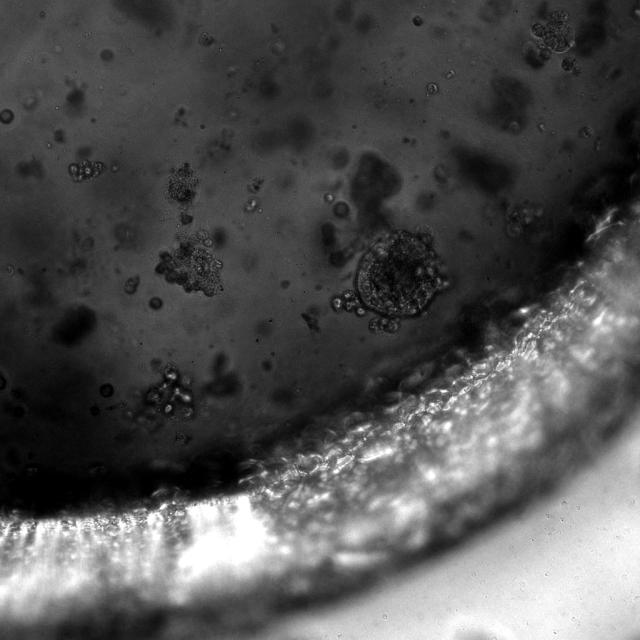organoid: (328, 223, 456, 334), (123, 362, 198, 433), (155, 230, 224, 296), (524, 9, 574, 69), (164, 161, 200, 226), (505, 201, 543, 237), (68, 160, 106, 182), (561, 56, 581, 75), (124, 274, 139, 295), (332, 201, 350, 218), (247, 177, 264, 193), (198, 31, 215, 47), (0, 108, 14, 124), (99, 383, 114, 397), (244, 198, 259, 212), (149, 296, 162, 310), (578, 126, 592, 138), (425, 83, 438, 95), (412, 15, 424, 26), (324, 192, 334, 203)
